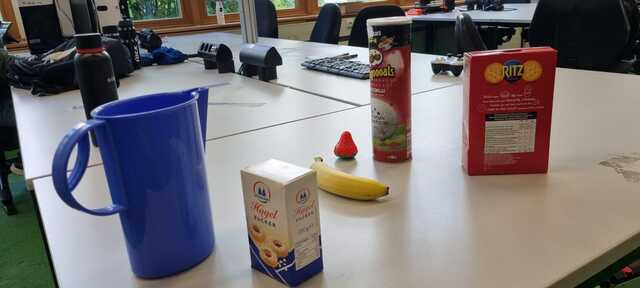001_chips_can: (365, 16, 419, 163)
003_cracker_box: (460, 46, 557, 177)
004_sugar_box: (241, 159, 325, 288)
011_banana: (310, 157, 393, 204)
012_strawberry: (331, 130, 359, 160)
019_pitcher_base: (51, 88, 220, 282)
